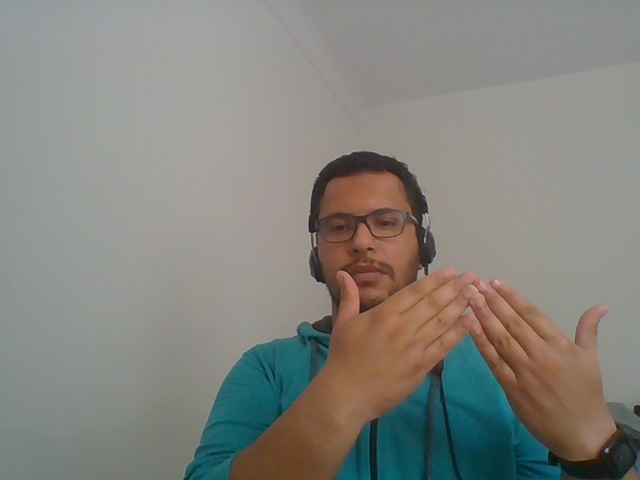thanks: (209, 249, 635, 480)
